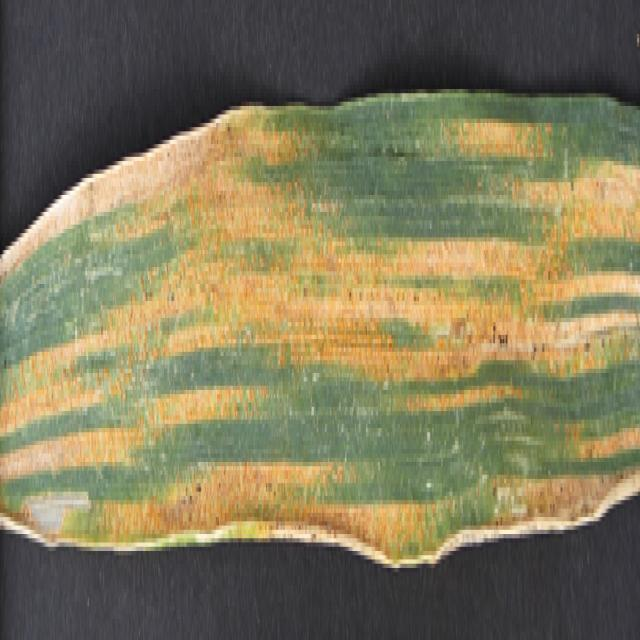leaf rust: (0, 84, 640, 555)
